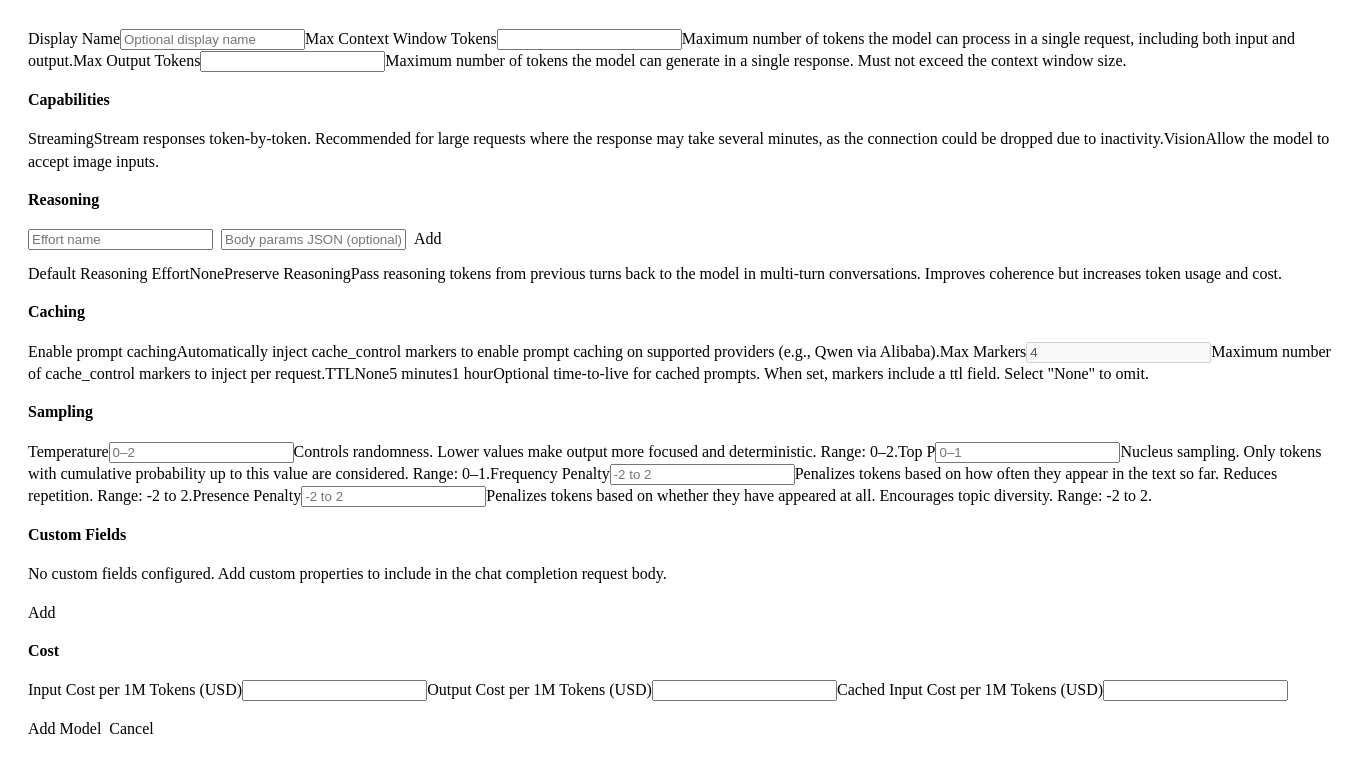
Test: ModelConfigDialog › enables caching numeric fields when checkbox is checked
Step 1. Click the checkbox labelled "Enable prompt caching" → [102, 351], box [28, 342, 176, 360]
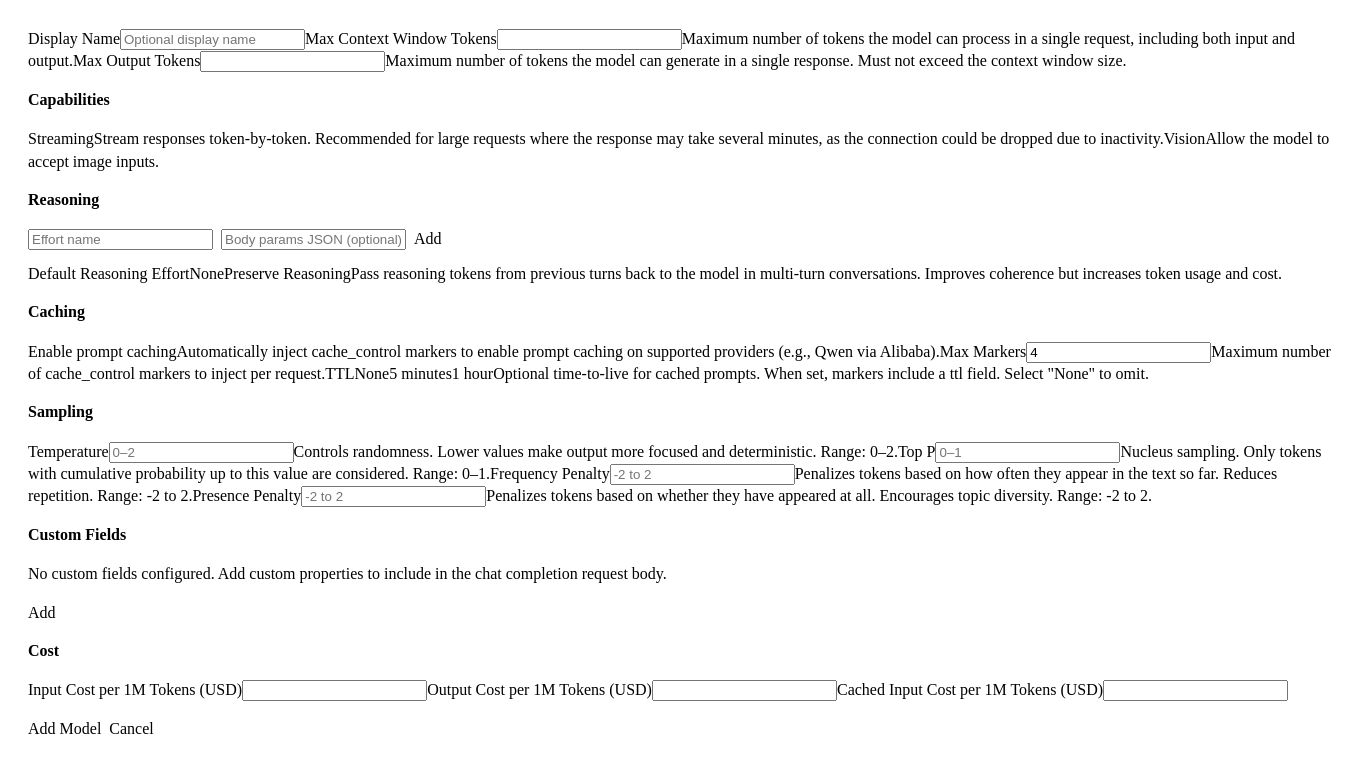
Check: the element with id "cache-ttl" is enabled, box [354, 365, 493, 382]
Check: the number field labelled "Max Markers" is enabled, box [1026, 342, 1211, 362]
// Uncheck → fields should disable
Step 2. Click the checkbox labelled "Enable prompt caching" → [102, 351], box [28, 342, 176, 360]
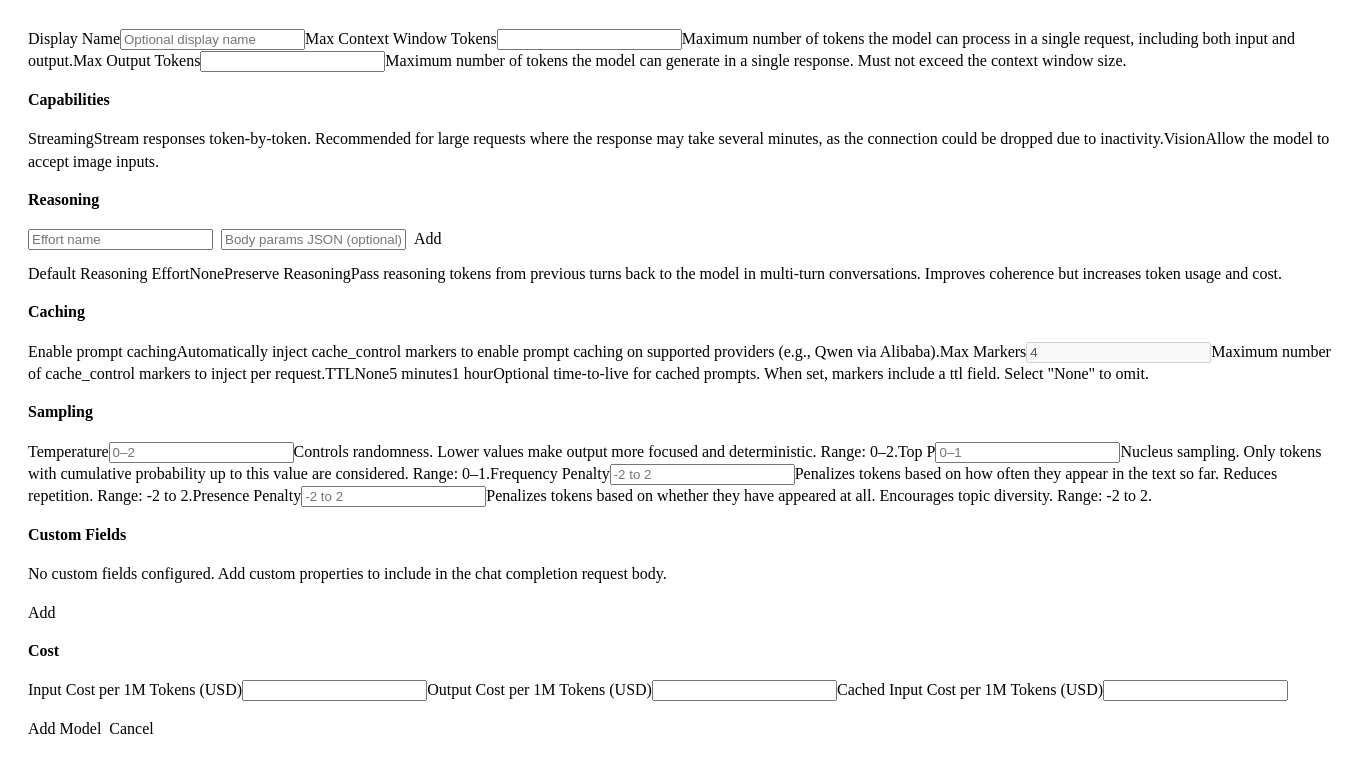
Check: the element with id "cache-ttl" is disabled, box [354, 365, 493, 382]
Check: the number field labelled "Max Markers" is disabled, box [1026, 342, 1211, 362]
